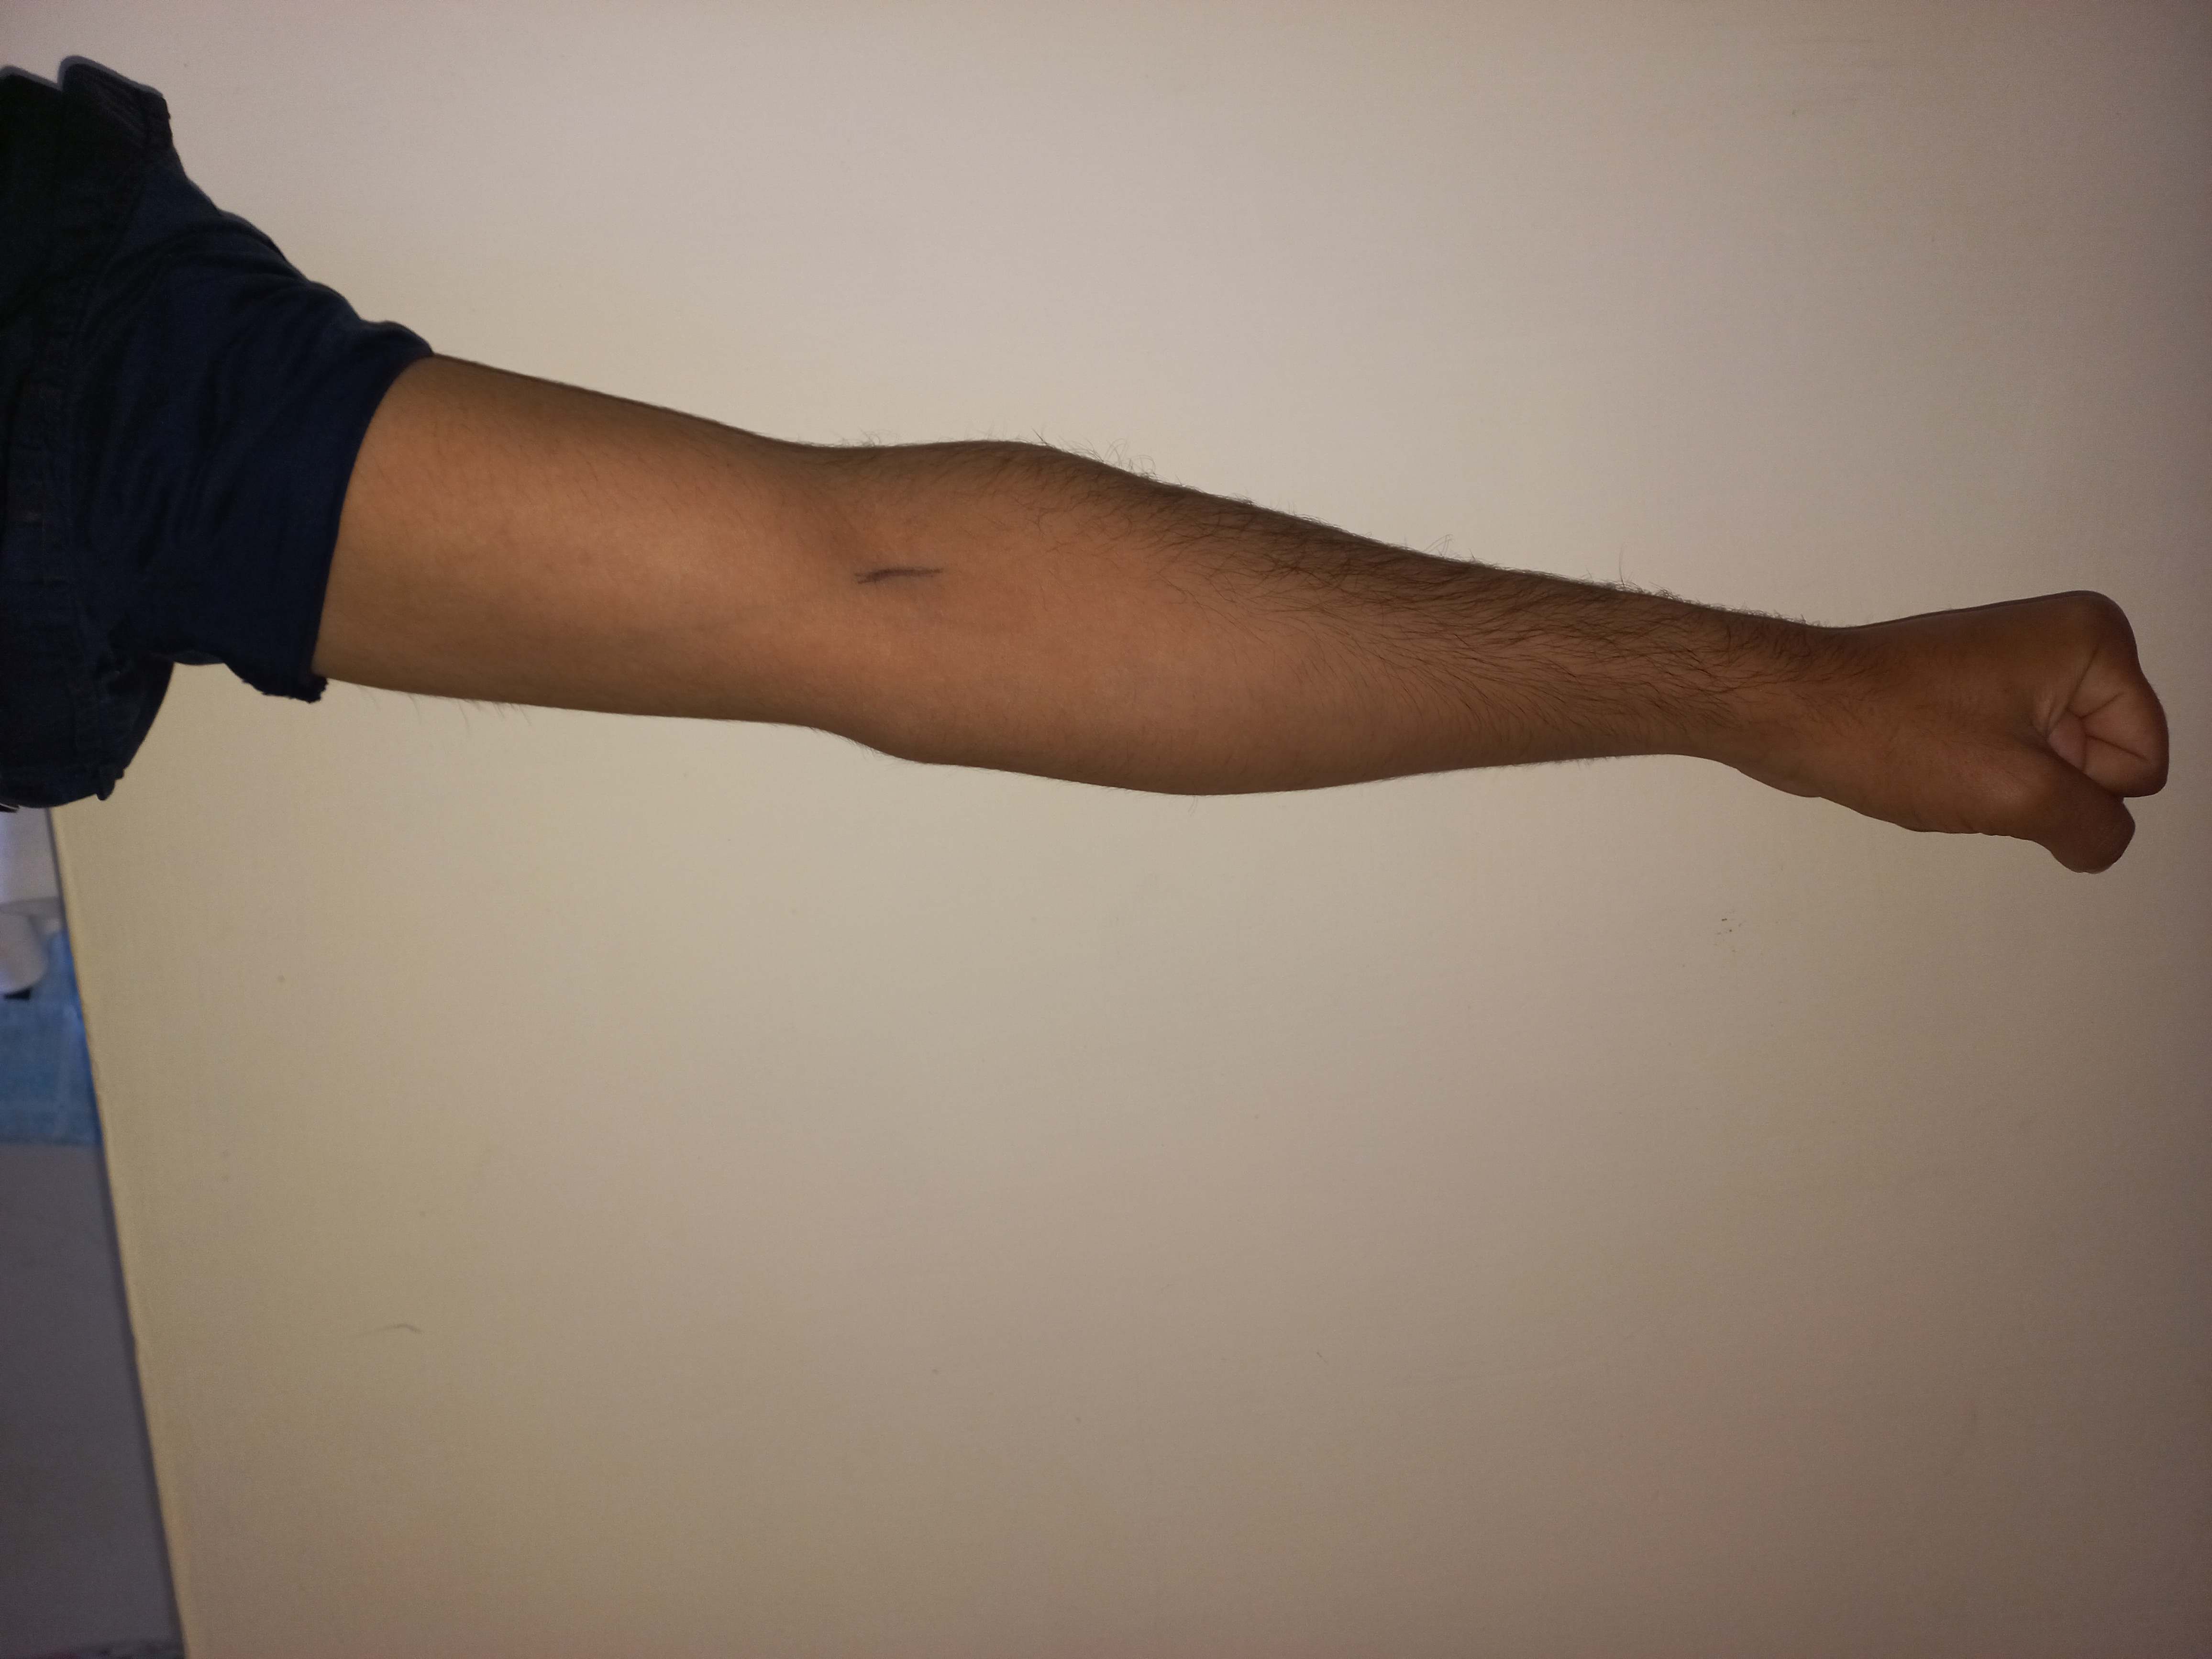vein: (836, 549, 979, 603)
